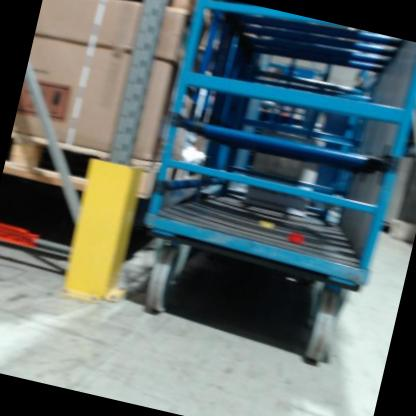pallet: (2, 129, 161, 210), (80, 0, 194, 25)
